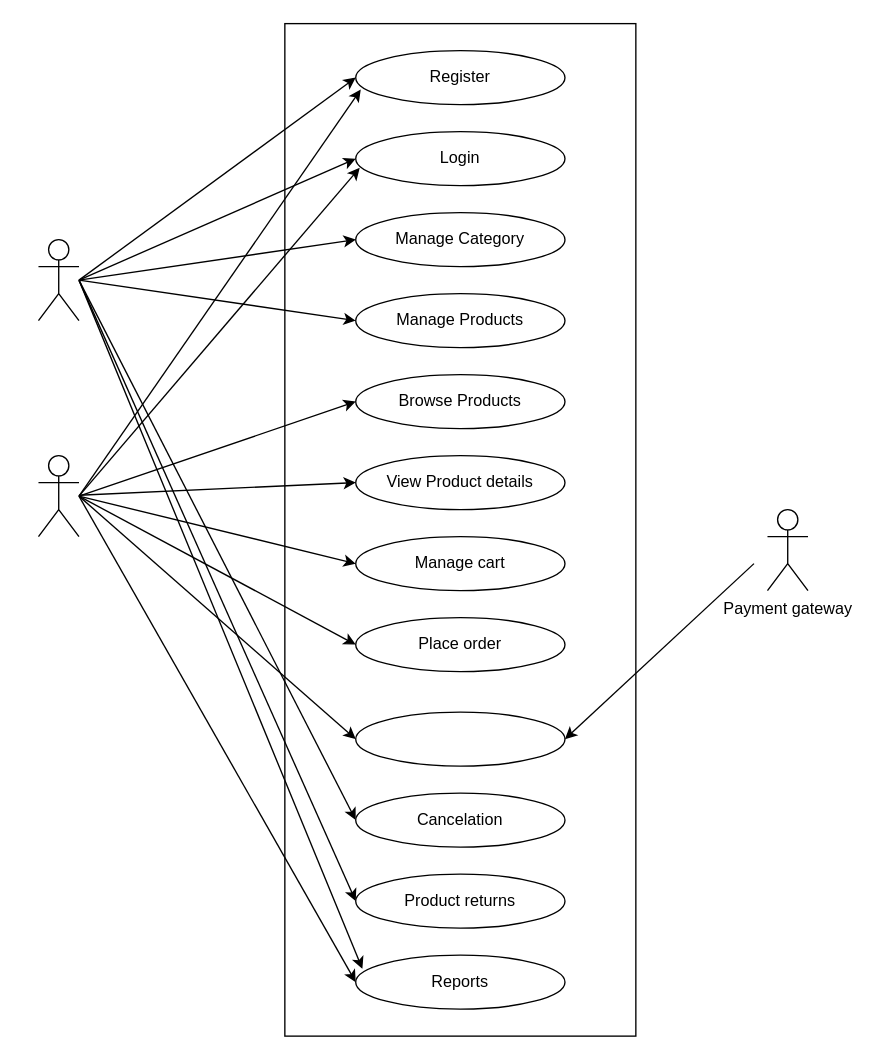
Image size: 875x1060. Some labels were removed from this diagram. The centre of each missing label's shape, as x and y in pixels:
"Admin" goes at (58,279).
"Customer" goes at (58,495).
"Payment" goes at (459,738).
